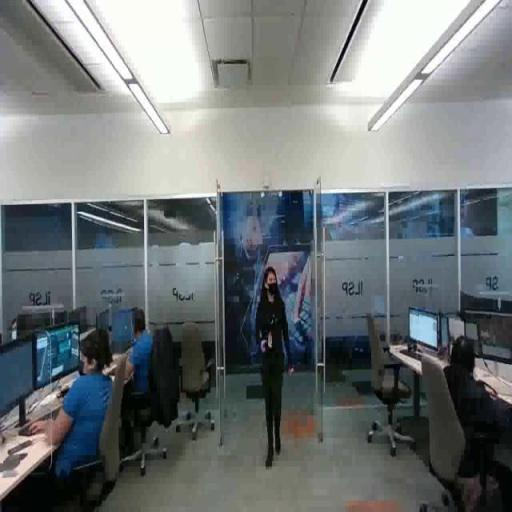person: (33, 334, 133, 502), (431, 330, 512, 493), (254, 263, 296, 473), (111, 303, 164, 439)
